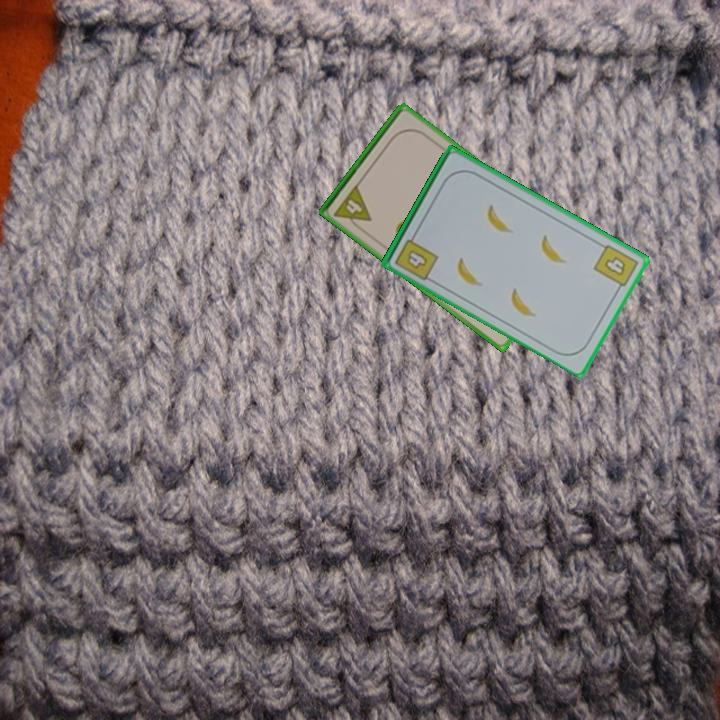4b: (590, 241, 641, 295), (391, 229, 441, 284)
4p: (331, 181, 374, 234)
